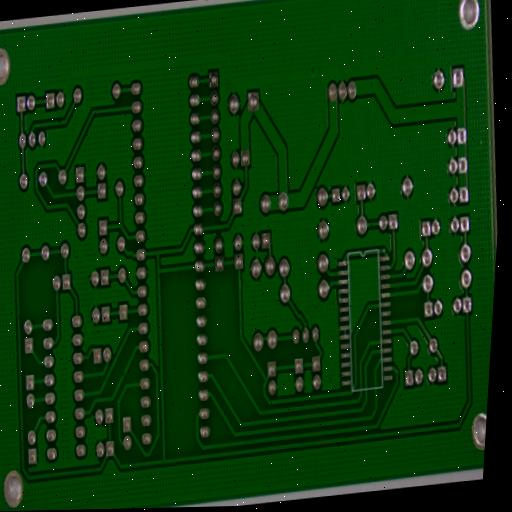mouse_bite: (119, 365, 128, 381), (20, 116, 27, 129), (56, 117, 64, 128)
